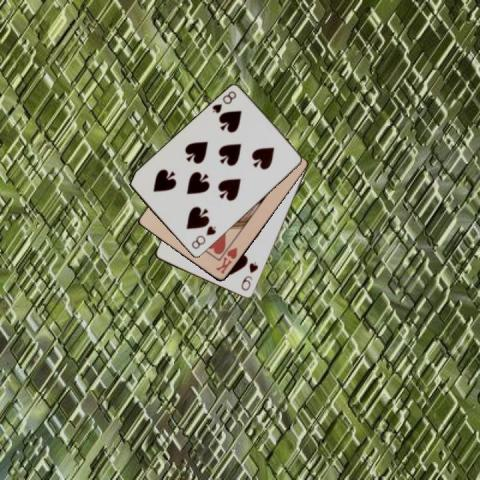8s: (189, 222, 217, 250), (210, 88, 238, 115)
9s: (238, 258, 259, 292)
Kh: (212, 245, 238, 275)
